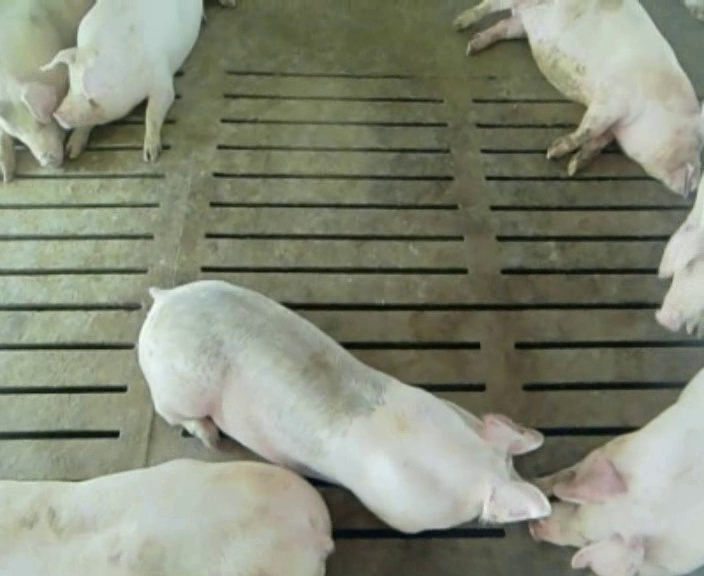pig: (138, 280, 549, 531), (454, 2, 700, 195), (0, 459, 333, 574), (530, 368, 703, 574), (42, 2, 202, 161), (656, 174, 703, 334)
